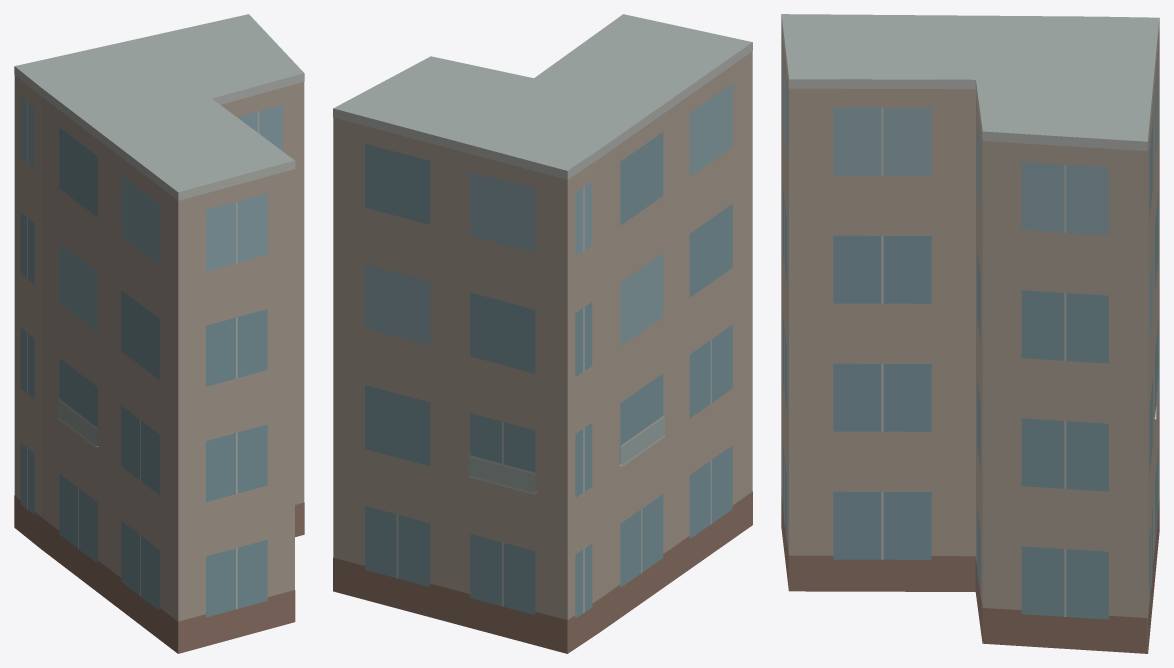
The model's file is survey-upis-32964007.glb.
3 views of the same model, side by side, from view 1: azimuth 30°, elevation 25°; view 2: azimuth 150°, elevation 25°; view 3: azimuth 270°, elevation 25° (orthographic). The views are drawn at different scales.
Visible parts, largest first — view 1: survey-upis-32964007.tmp; view 2: survey-upis-32964007.tmp; view 3: survey-upis-32964007.tmp.
Boxes of the visible parts, bbox=[...] form: survey-upis-32964007.tmp: bbox=[14, 14, 304, 653]; survey-upis-32964007.tmp: bbox=[333, 14, 752, 653]; survey-upis-32964007.tmp: bbox=[781, 14, 1159, 653].
Bounding box in the file's own units: 7.07 × 13.2 × 8.84.
